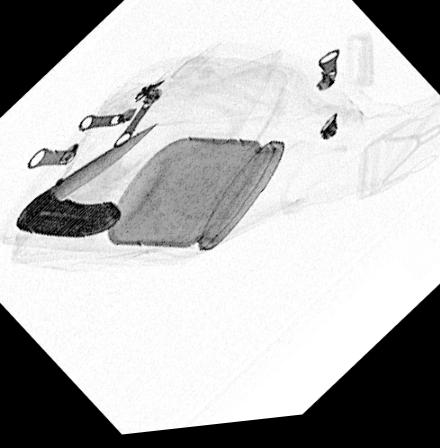Knife: (13, 122, 161, 241)
